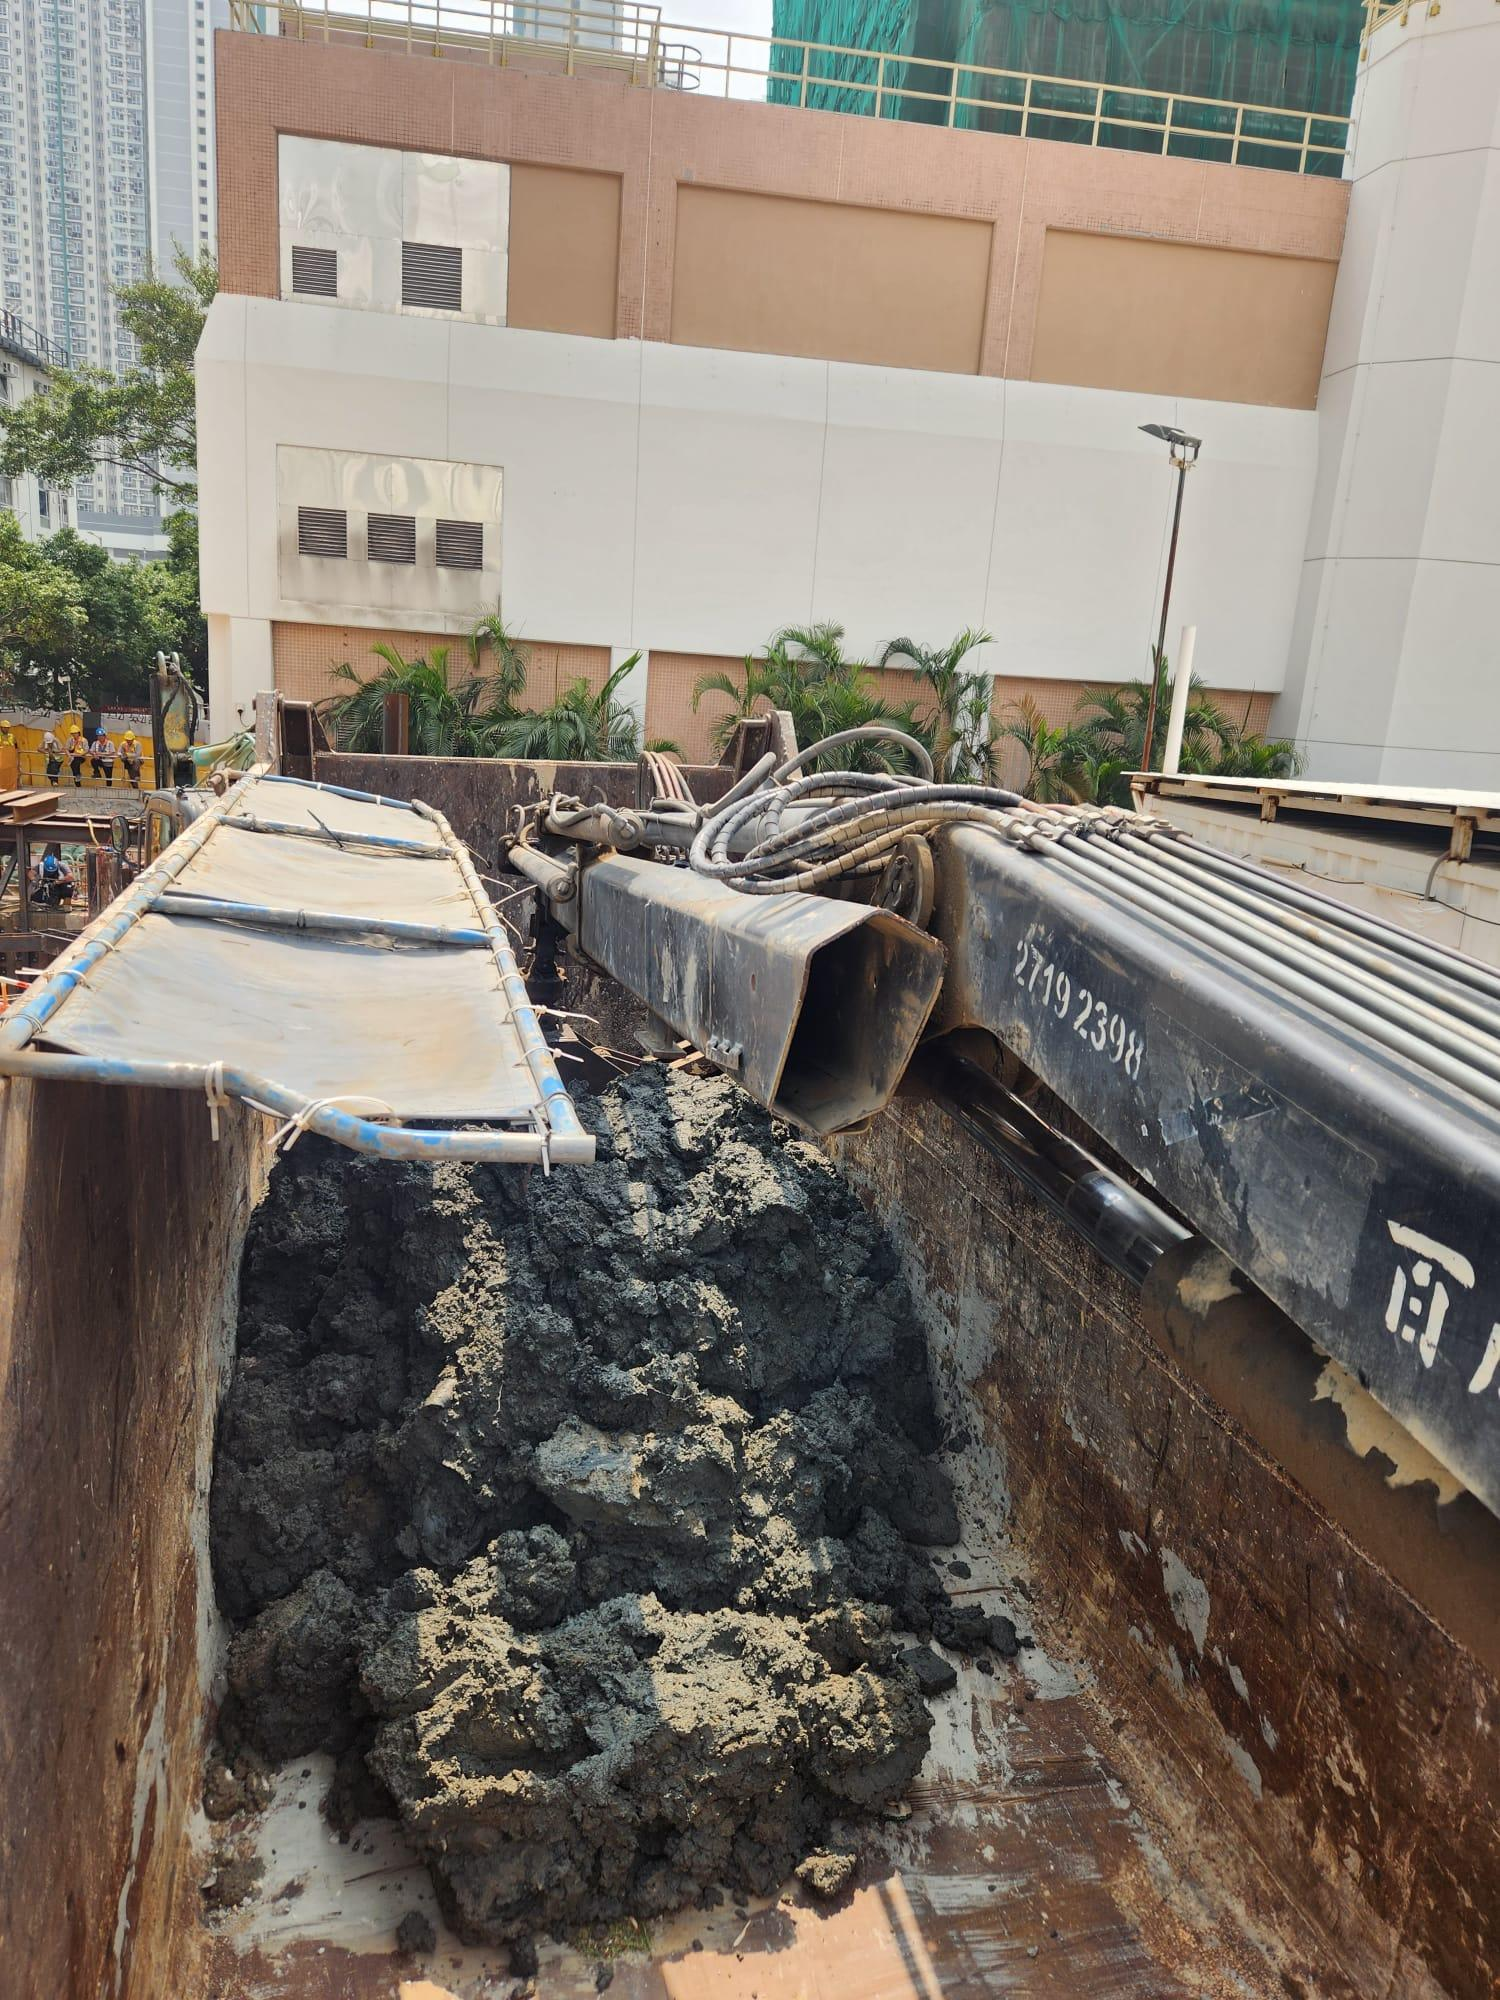stone: (203, 1050, 996, 1950), (355, 1572, 936, 1942)
